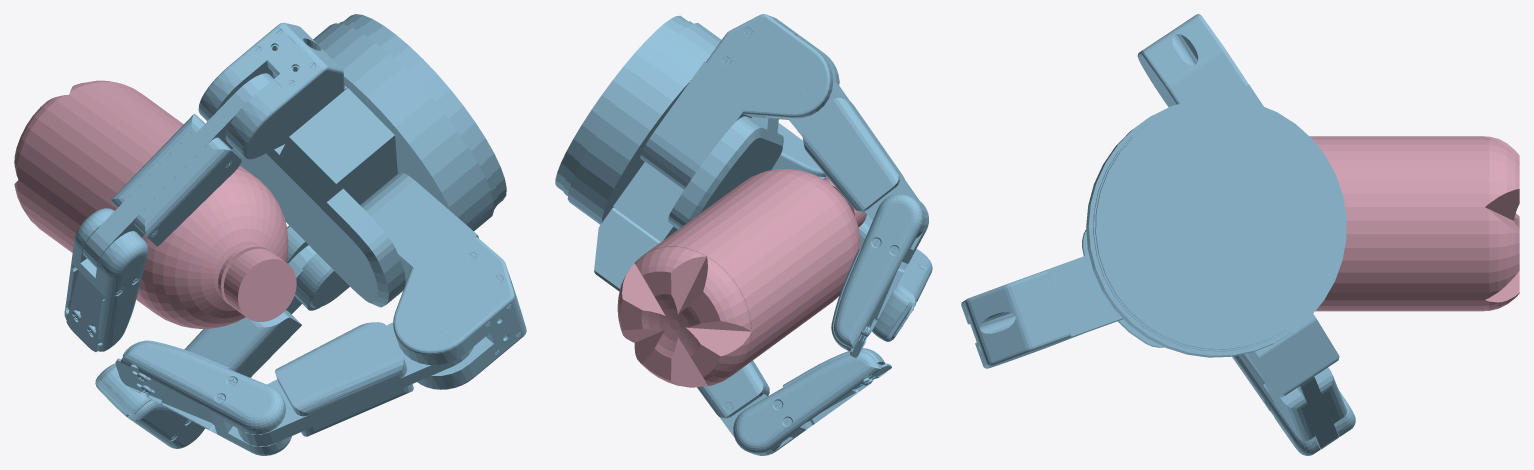
3 views of the same model, side by side, from view 1: azimuth 30°, elevation 25°; view 2: azimuth 150°, elevation 25°; view 3: azimuth 270°, elevation 25° (orthographic). The views are drawn at different scales.
Visible parts, largest first — view 1: world; view 2: world; view 3: world.
Part boxes in pixels (x1,y1,x2,y2): world: (14, 14, 526, 455); world: (555, 14, 932, 455); world: (961, 14, 1519, 455).
Size of the model in its own units: 0.1613 by 0.1759 by 0.1923.
